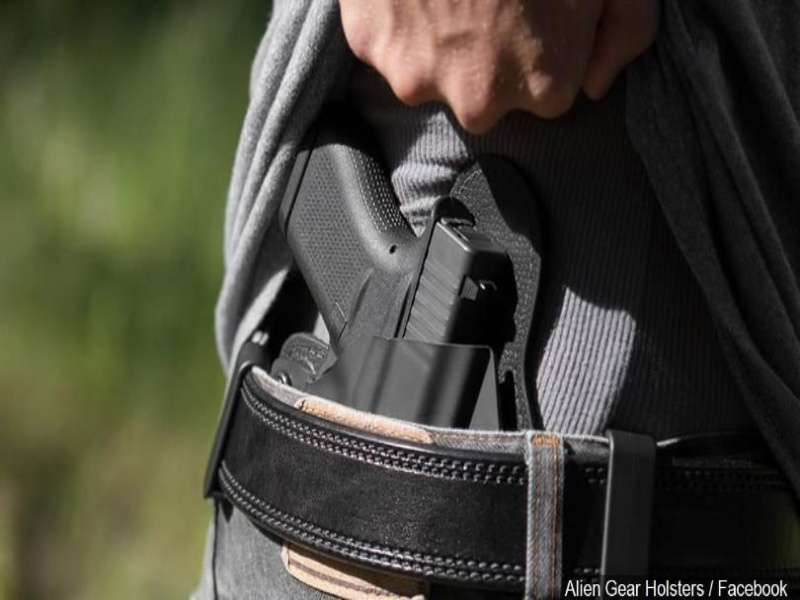gun: (270, 90, 515, 463)
